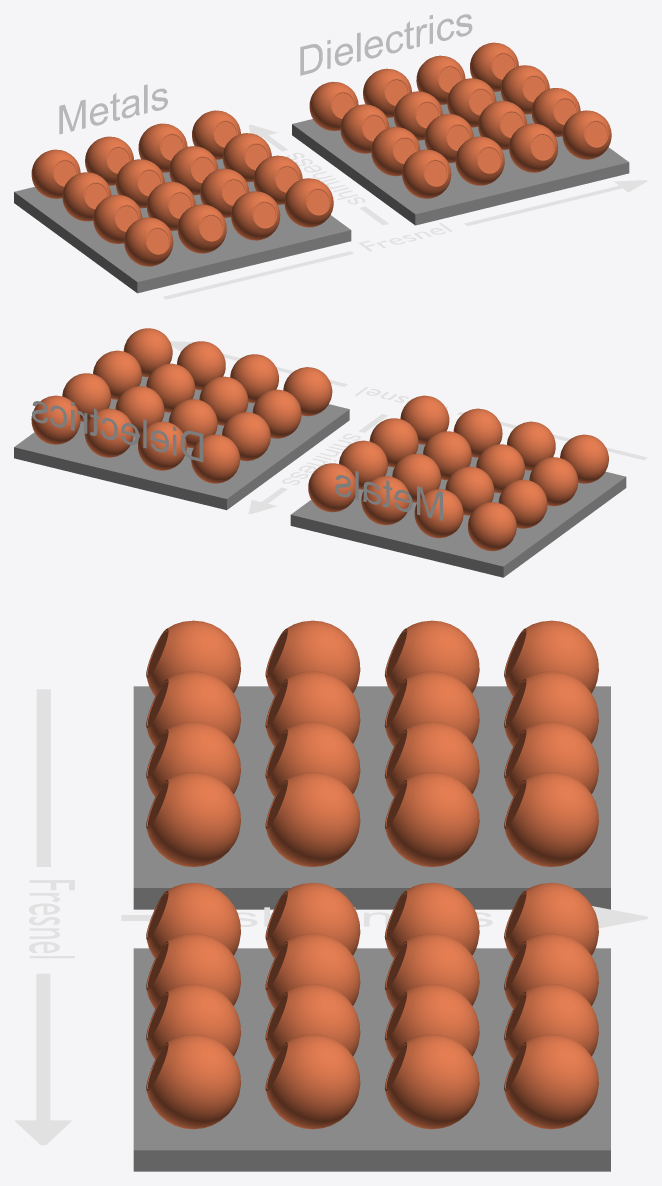
The model's file is materialtest.obj.
3 renders of one model, top to bottom at view 1: azimuth 30°, elevation 25°; view 2: azimuth 150°, elevation 25°; view 3: azimuth 270°, elevation 25°, orthographic. The views are drawn at different scales.
Visible parts, largest first — view 1: FloorRight, FloorLeft, Metal01, Diel03, Metal00, Diel01, DielectricsText, Metal03, Metal04, Diel02, Diel00, Metal20 (+28 smaller); view 2: FloorLeft, FloorRight, DielectricsText, Metal30, Diel30, Metal33, Metal20, Diel10, Diel00, Metal10, Metal00, Metal31 (+26 smaller); view 3: FloorRight, FloorLeft, Diel03, Diel23, Metal04, Diel33, Metal13, Metal33, Metal23, Diel13, Metal20, Metal31 (+25 smaller).
Part boxes in pixels (x1,y1,x2,y2): FloorRight: (292, 91, 629, 225); FloorLeft: (14, 159, 351, 293); Metal01: (177, 204, 226, 253); Diel03: (562, 110, 611, 159); Metal00: (124, 217, 173, 266); Diel01: (455, 136, 504, 185); DielectricsText: (300, 14, 472, 75); Metal03: (231, 191, 280, 240); Metal04: (284, 178, 333, 227); Diel02: (509, 123, 558, 172); Diel00: (402, 149, 451, 198); Metal20: (62, 172, 111, 221); FloorLeft: (290, 444, 626, 577); FloorRight: (14, 376, 349, 510); DielectricsText: (32, 401, 203, 462); Metal30: (468, 502, 516, 551); Diel30: (191, 434, 239, 483); Metal33: (308, 463, 355, 512); Metal20: (498, 479, 547, 528); Diel10: (252, 389, 301, 438); Diel00: (283, 367, 332, 416); Metal10: (529, 457, 578, 506); Metal00: (560, 434, 608, 483); Metal31: (414, 489, 463, 538); FloorRight: (133, 948, 610, 1171); FloorLeft: (133, 686, 610, 909); Diel03: (146, 1034, 240, 1129); Diel23: (384, 1034, 479, 1129); Metal04: (146, 772, 240, 866); Diel33: (504, 1034, 598, 1129); Metal13: (265, 772, 360, 866); Metal33: (504, 772, 598, 866); Metal23: (385, 772, 479, 866); Diel13: (265, 1034, 360, 1129); Metal20: (384, 620, 479, 695); Metal31: (504, 671, 598, 746).
Size of the model in its own units: 45.28 by 6.91 by 26.15.
